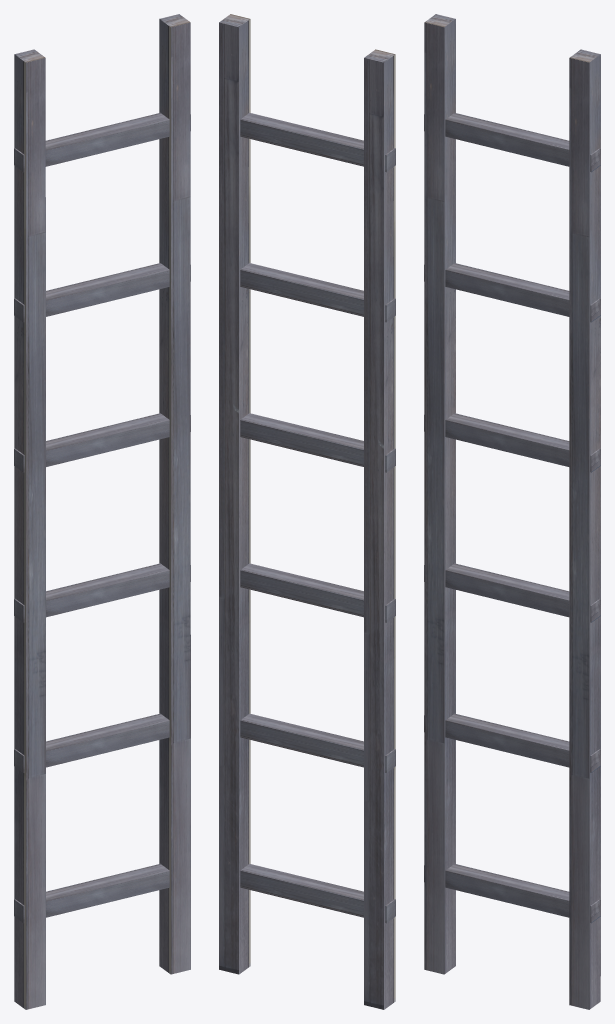
The model's file is ladder.fbx.
3 renders of one model, left to right at view 1: azimuth 30°, elevation 25°; view 2: azimuth 150°, elevation 25°; view 3: azimuth 330°, elevation 25°, orthographic.
Parts seen in each view (by area): view 1: ladder; view 2: ladder; view 3: ladder.
Boxes of the visible parts, left/top/right/bottom form: ladder: left=14, top=14, right=190, bottom=1009; ladder: left=219, top=14, right=395, bottom=1009; ladder: left=424, top=14, right=600, bottom=1009.
Bounding box in the file's own units: 34.98 × 189 × 4.19.
